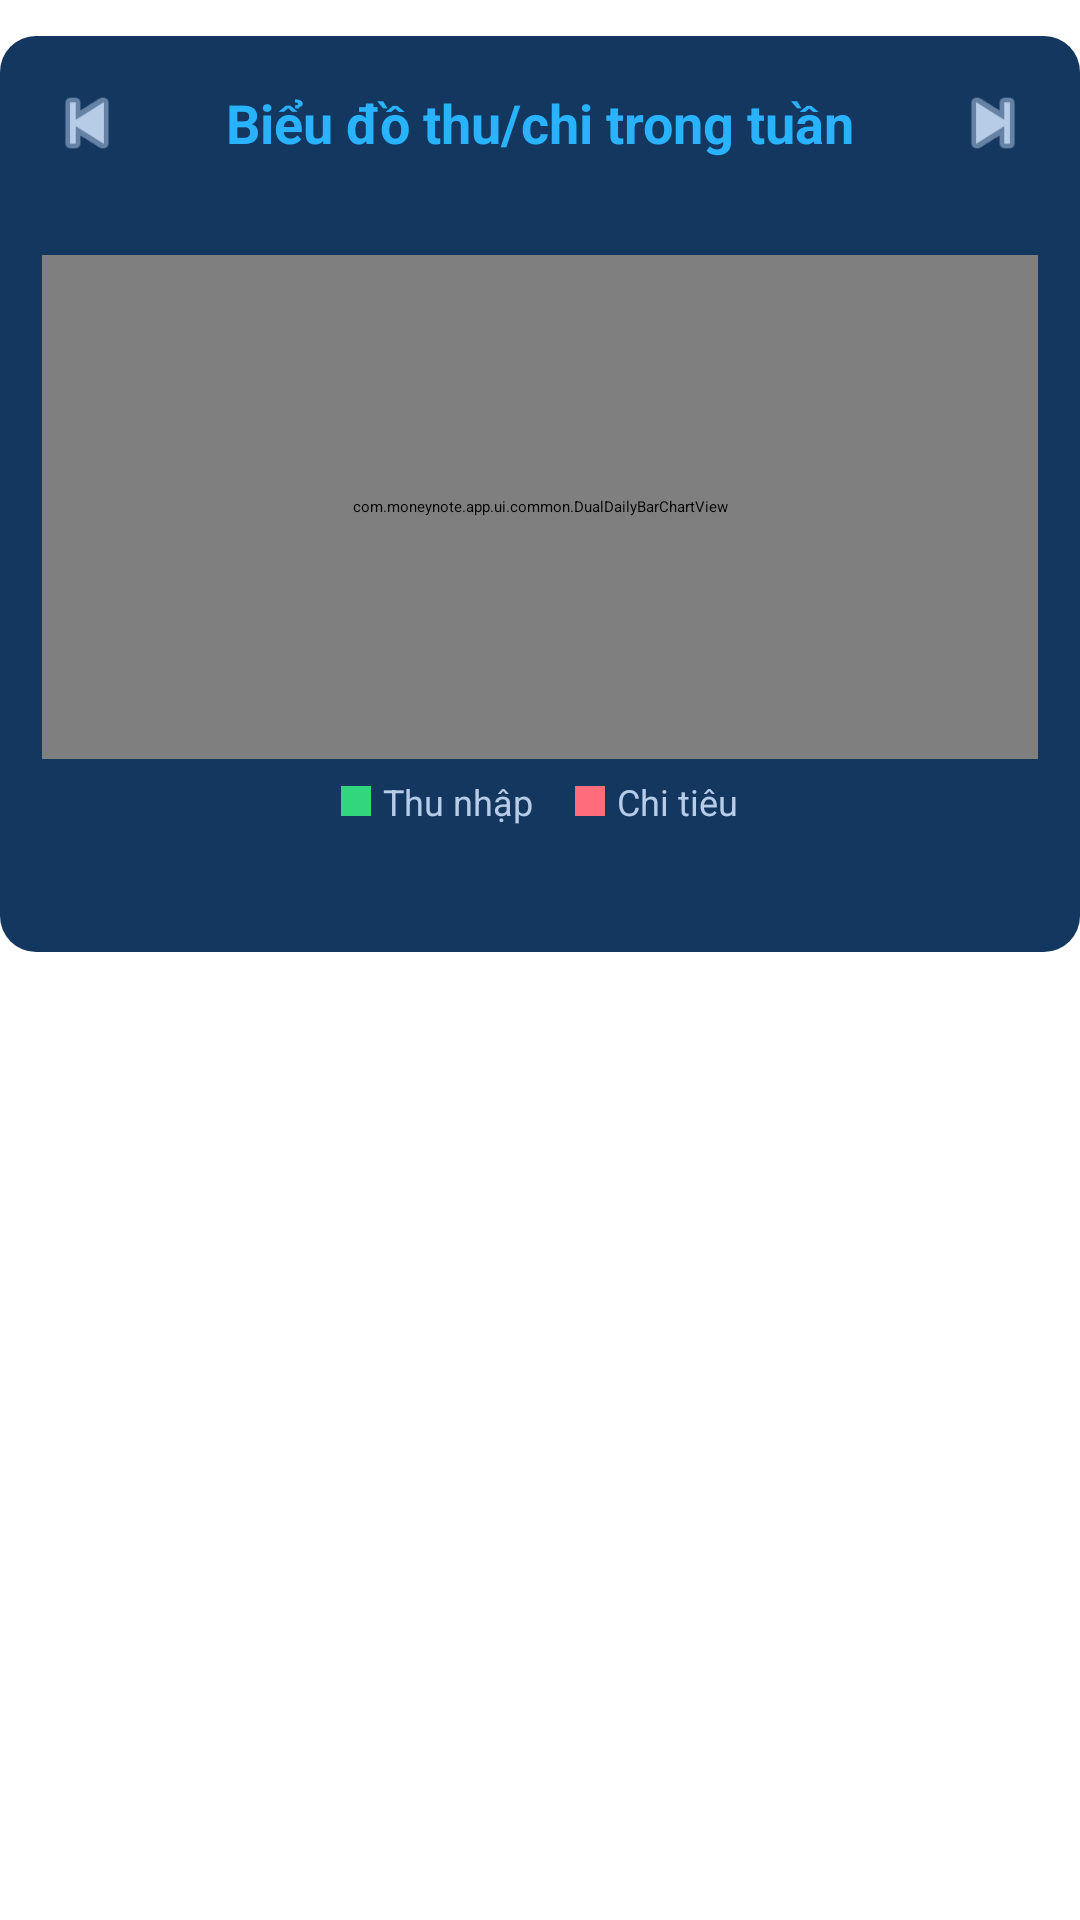

Named icons in this screenshot (1080×1920) and their bounding boxes, (x1, y1, x2, y2):
next: (971, 97, 1015, 149)
previous: (65, 97, 109, 149)
